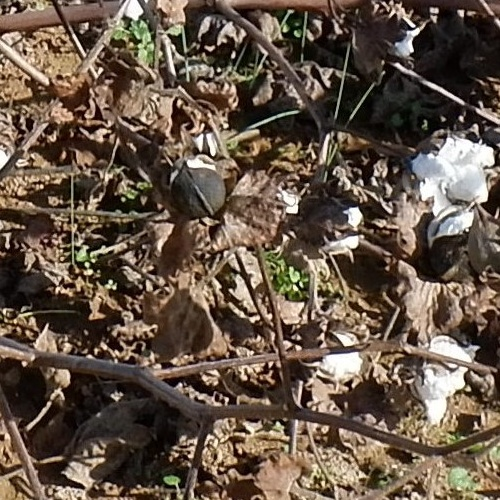immature_boll: (181, 143, 321, 264)
mature_boll: (414, 125, 500, 246), (407, 325, 481, 426), (306, 322, 374, 387)
